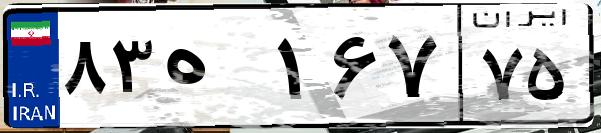1: (270, 28, 330, 110)
3: (110, 28, 158, 98)
5: (525, 38, 570, 115)
6: (330, 28, 385, 110)
7: (385, 28, 445, 110), (475, 38, 525, 113)
8: (57, 26, 110, 100)
ه: (158, 20, 270, 120)
